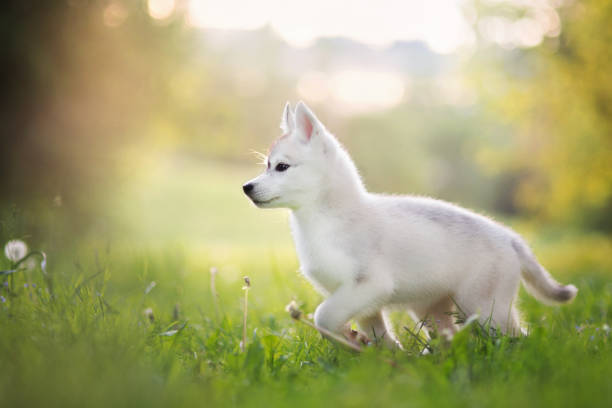arcticfox: (236, 127, 336, 232)
